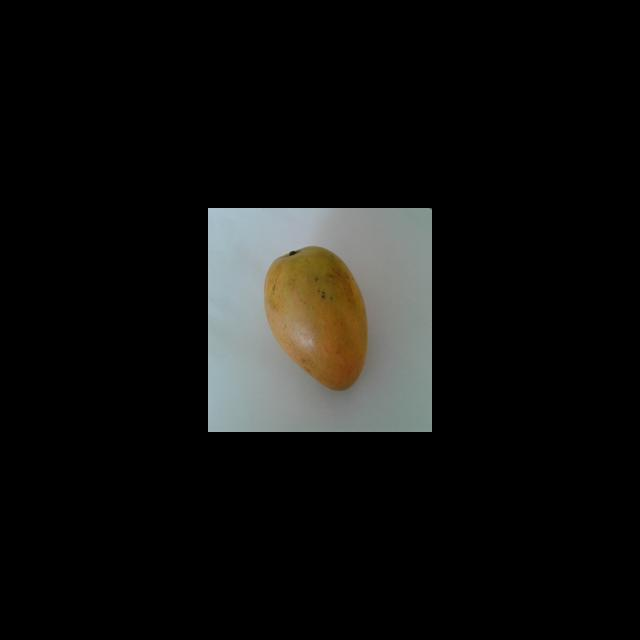mango: (263, 245, 368, 391)
